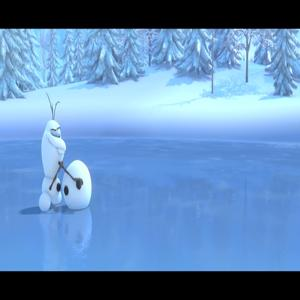olaf: (34, 96, 99, 215)
